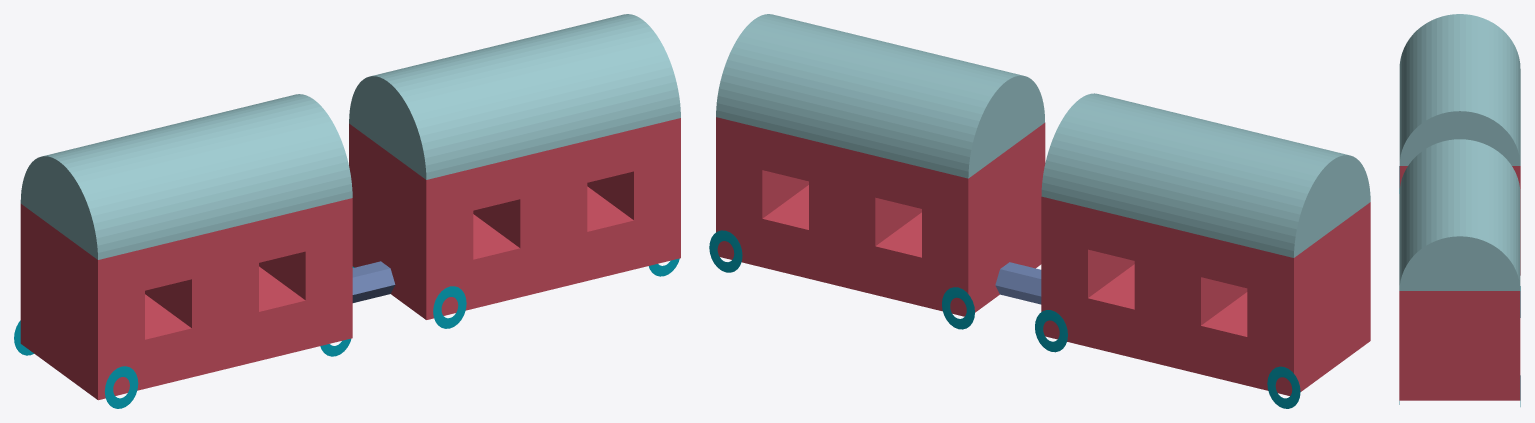
Rendered from Exquisite Tumelo-Hillar.glb.
3 renders of one model, left to right at view 1: azimuth 30°, elevation 25°; view 2: azimuth 150°, elevation 25°; view 3: azimuth 270°, elevation 25°, orthographic. The views are drawn at different scales.
Parts seen in each view (by area): view 1: Mesh_Mesh_head_geo.001_lambert2SG.001; view 2: Mesh_Mesh_head_geo.001_lambert2SG.001; view 3: Mesh_Mesh_head_geo.001_lambert2SG.001.
Part boxes in pixels (x1,y1,x2,y2): Mesh_Mesh_head_geo.001_lambert2SG.001: (14,14,680,408); Mesh_Mesh_head_geo.001_lambert2SG.001: (709,14,1370,408); Mesh_Mesh_head_geo.001_lambert2SG.001: (1399,14,1520,406).
Bounding box in the file's own units: 89 × 32 × 20.03.
